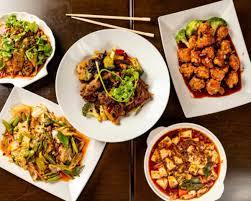Braised Crucian Carp: (54, 27, 169, 143), (157, 0, 250, 117), (0, 101, 87, 197), (142, 122, 227, 200), (0, 10, 56, 86)
